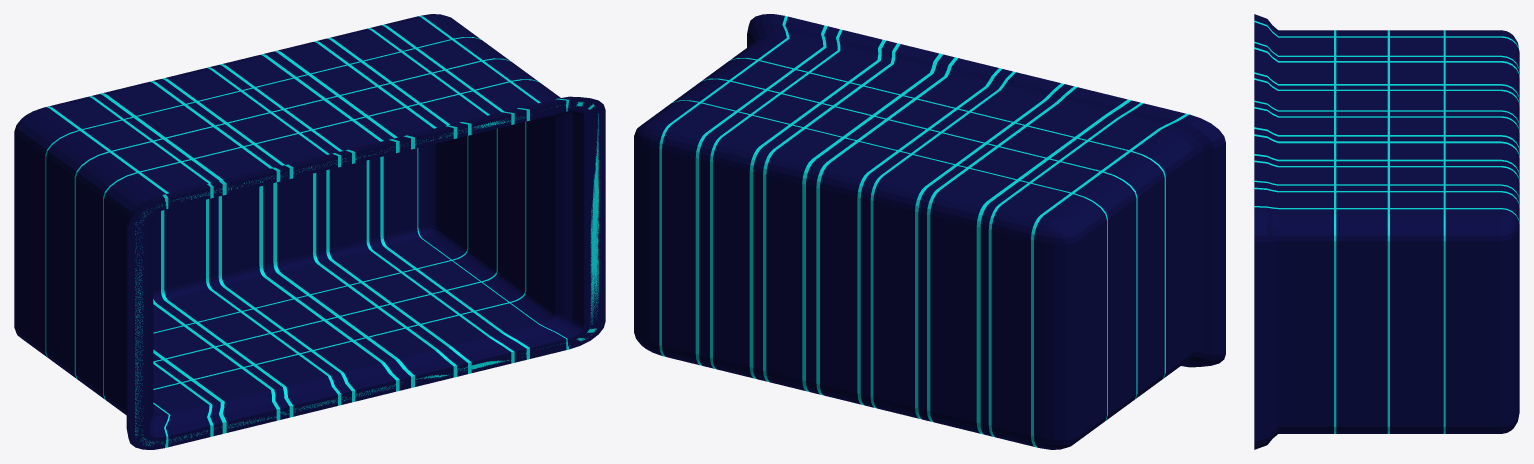
3 views of the same model, side by side, from view 1: azimuth 30°, elevation 25°; view 2: azimuth 150°, elevation 25°; view 3: azimuth 270°, elevation 25° (orthographic). The views are drawn at different scales.
Parts seen in each view (by area): view 1: Cube; view 2: Cube; view 3: Cube.
Part boxes in pixels (x1,y1,x2,y2): Cube: (14,14,605,449); Cube: (634,14,1225,449); Cube: (1254,14,1519,449).
Size of the model in its own units: 4319 by 2159 by 2200.
